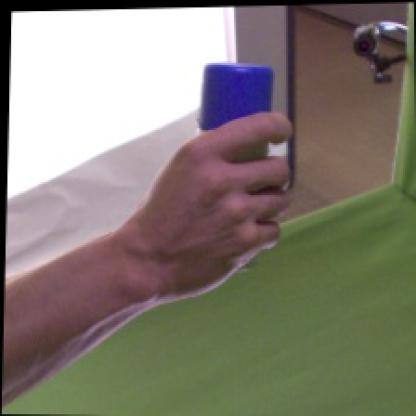Hand: (127, 112, 292, 302)
